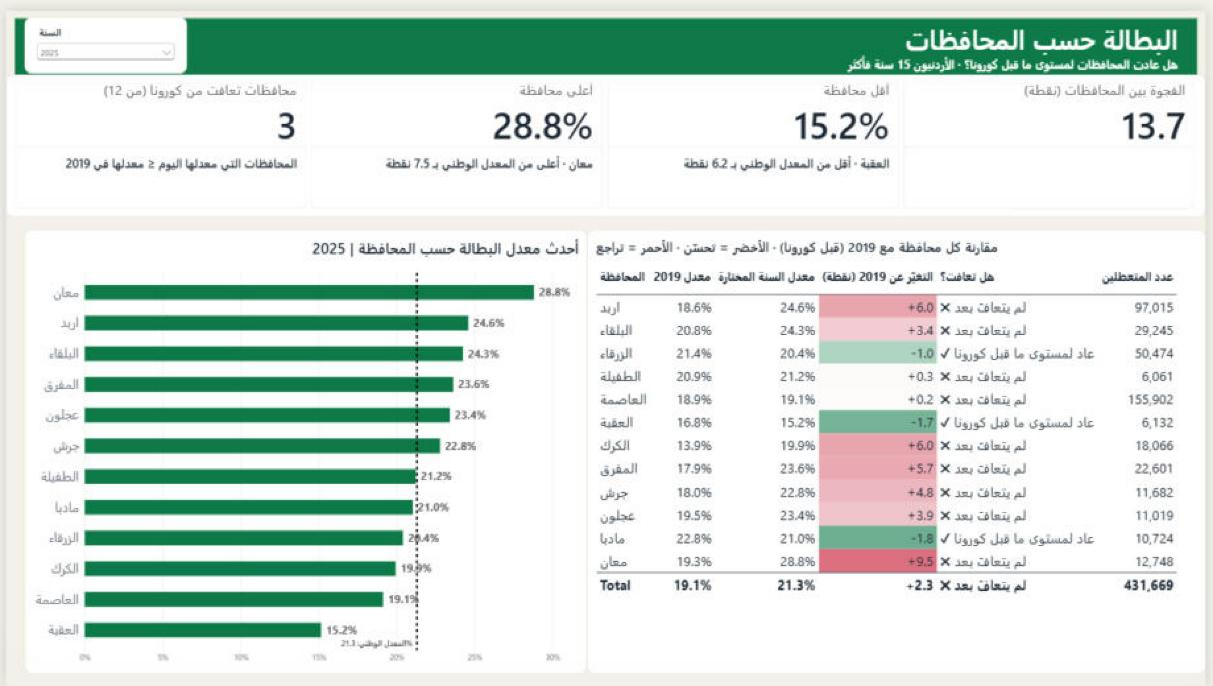

This screenshot's page, from the dashboard's own definition file:
{"tool":"powerbi","page":{"name":"3. المحافظات","canvas":[1920,1080],"ordinal":2},"visuals":[{"type":"shape","box":[0,0,1920.1,130.3],"z":0},{"type":"textbox","box":[590,4,1300,110],"z":1000},{"type":"cardVisual","fields":{"Data":["Fact_LabourForce.Recovered Count","Fact_LabourForce.Top Gov Rate","Fact_LabourForce.Low Gov Rate","Fact_LabourForce.Gov Spread pp"]},"box":[0,101.3,1920.1,228],"z":2000},{"type":"clusteredBarChart","fields":{"Category":["Fact_LabourForce.Governorate"],"Y":["Fact_LabourForce.Rate Latest"]},"box":[30,350,900,710],"z":3000},{"type":"slicer","fields":{"Values":["Fact_LabourForce.Year"]},"box":[30,10,260,90],"z":4000},{"type":"tableEx","title":"مقارنة كل محافظة مع 2019 (قبل كورونا) · الأخضر = تحسّن · الأحمر = تراجع","fields":{"Values":["Fact_LabourForce.Governorate","Fact_LabourForce.Rate 2019","Fact_LabourForce.Rate Latest","Fact_LabourForce.Change Latest vs 2019 pp","Fact_LabourForce.Recovery Status","Fact_LabourForce.Unemployed Latest"]},"box":[930,350,990,710],"z":5000}]}

Visuals, with their boxes in screenshot pixels (x1, y1, x2, y2), scaled from the page's 1920x1080 canvas onto the 1213x686 screenshot:
shape: 0, 0, 1212, 83
textbox: 373, 3, 1194, 72
cardVisual - Fact_LabourForce.Recovered Count x Fact_LabourForce.Top Gov Rate: 0, 64, 1212, 209
clusteredBarChart - Fact_LabourForce.Governorate x Fact_LabourForce.Rate Latest: 19, 222, 588, 673
slicer - Fact_LabourForce.Year: 19, 6, 183, 64
"مقارنة كل محافظة مع 2019 (قبل كورونا) · الأخضر = تحسّن · الأحمر = تراجع" tableEx: 588, 222, 1212, 673
